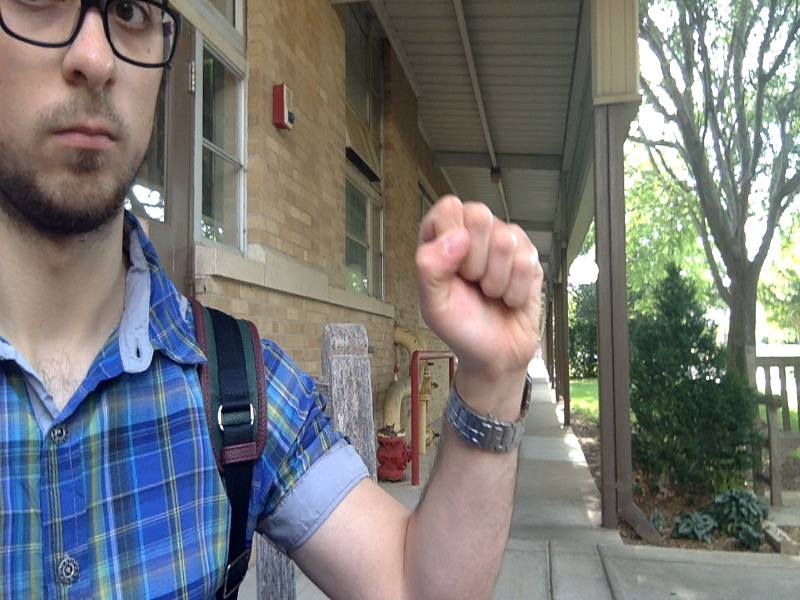0-hand: (412, 194, 545, 370)
